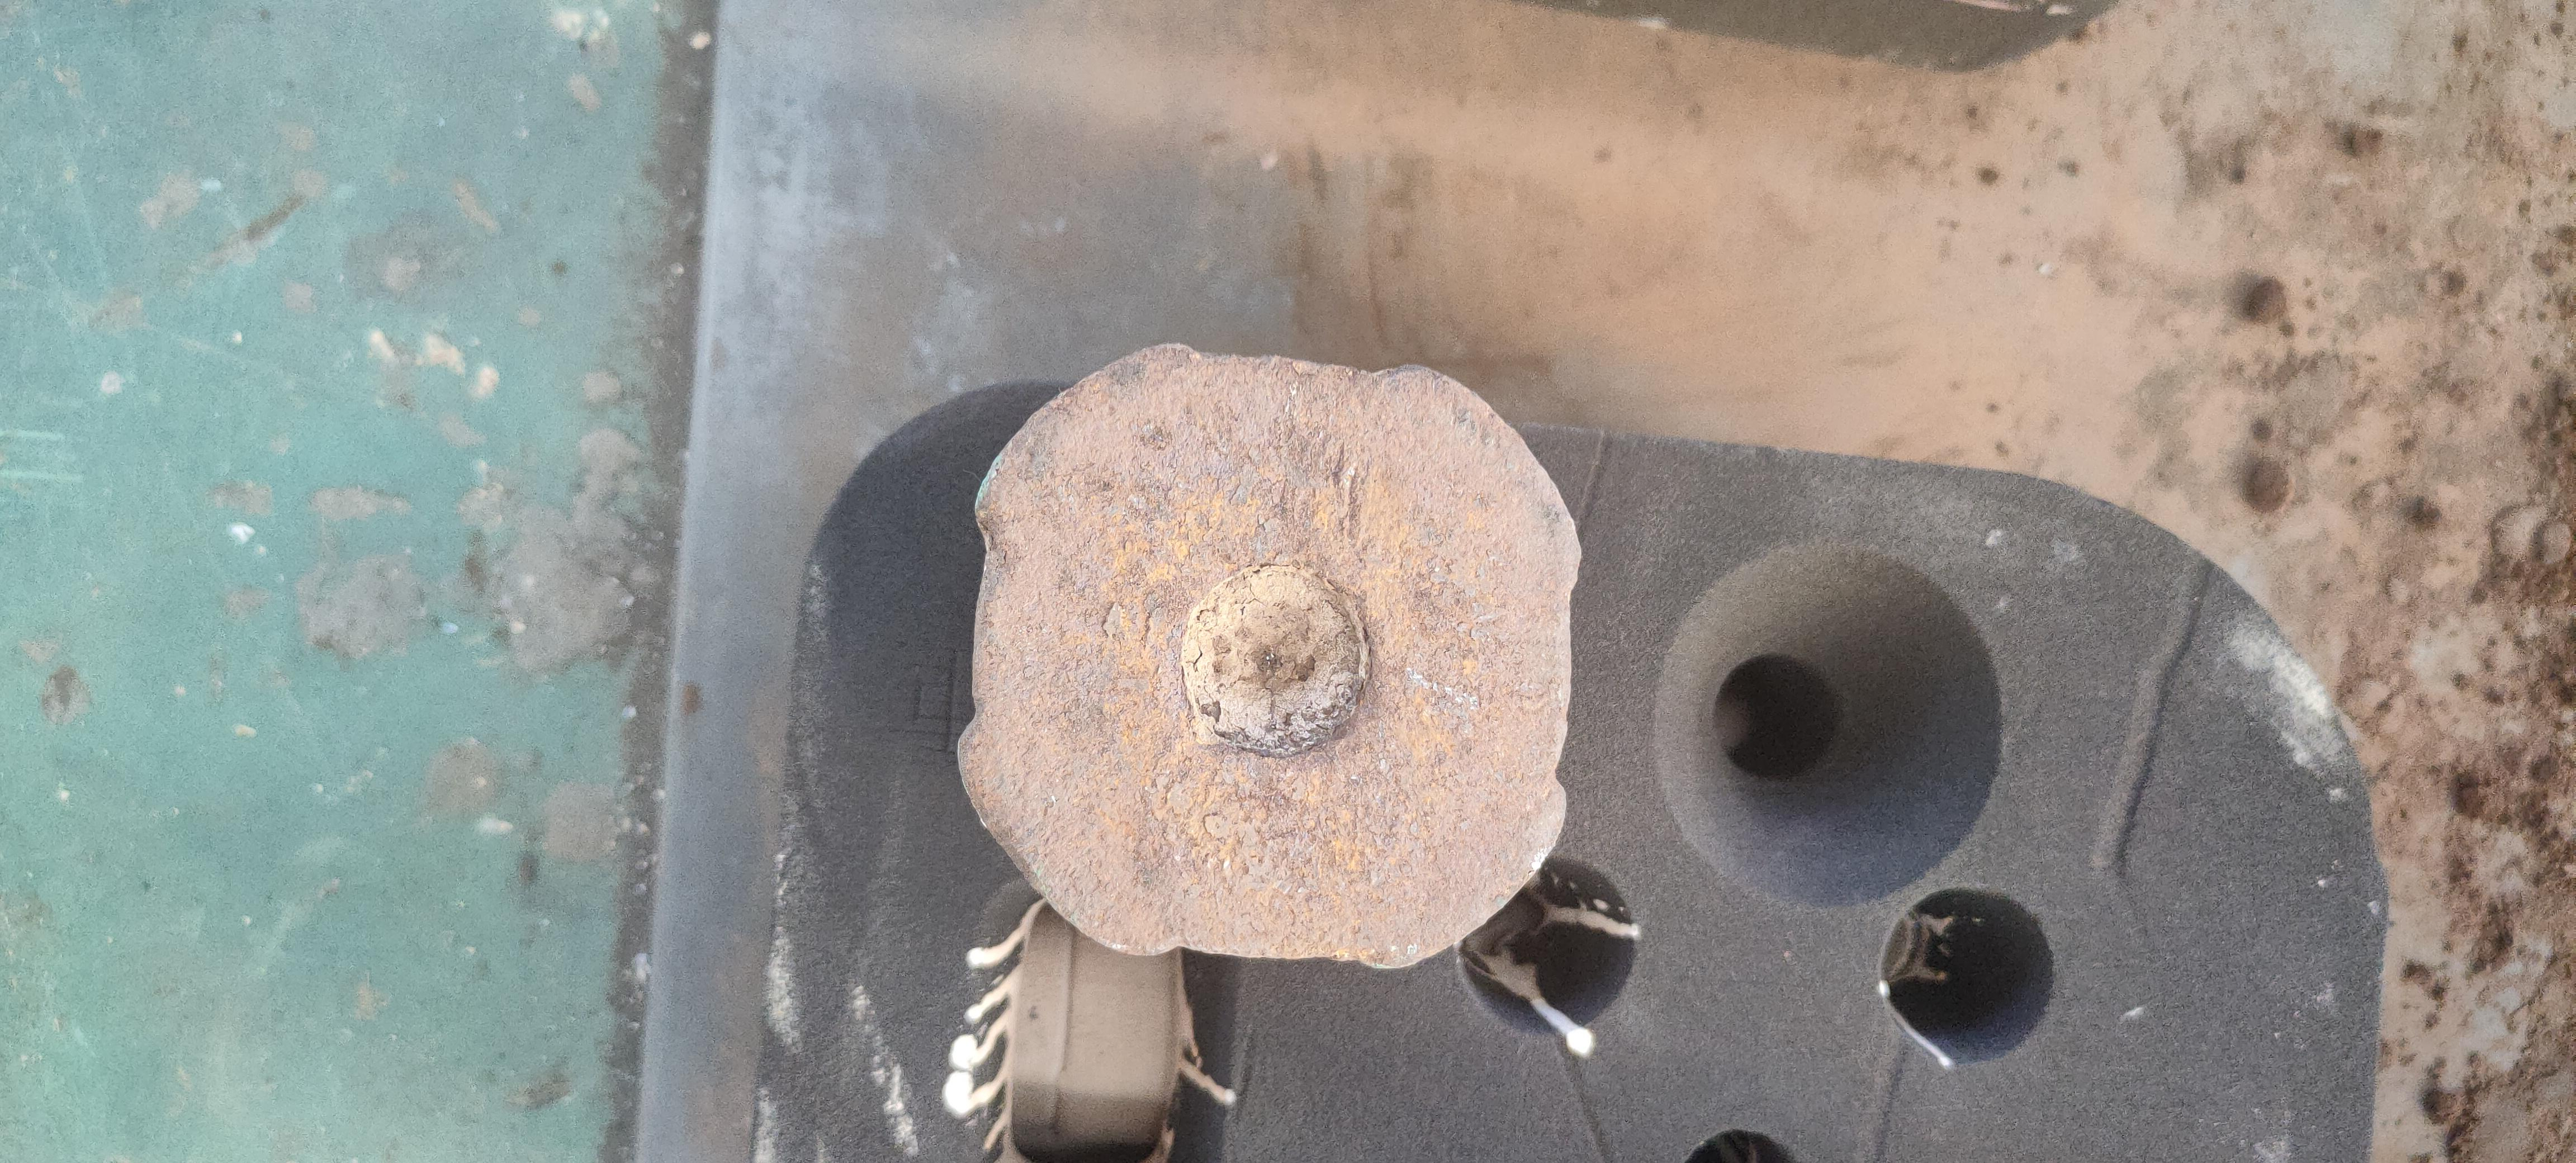pouring hole: (1649, 537, 2004, 910)
